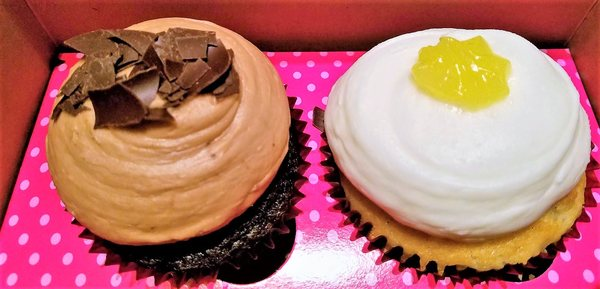curry: (2, 2, 600, 284)
sushi: (320, 27, 595, 272), (43, 18, 297, 273)
